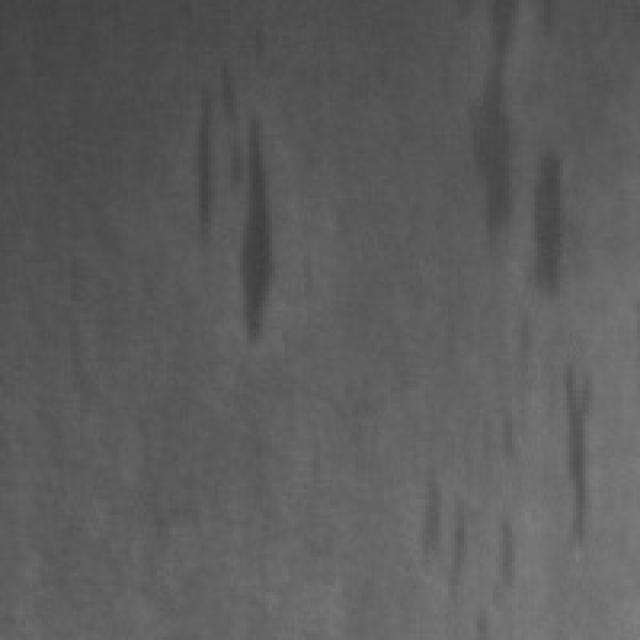inclusion: (182, 64, 292, 349), (451, 0, 531, 269), (413, 451, 531, 611), (554, 349, 620, 557), (525, 134, 592, 301)
